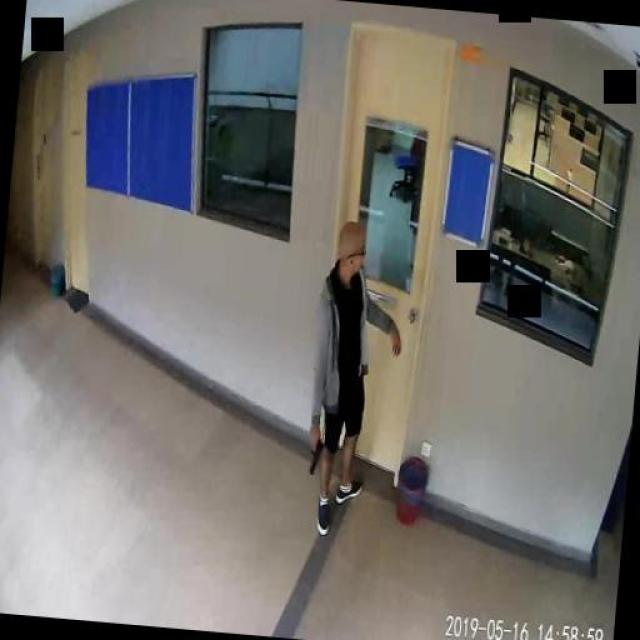gun: (302, 435, 322, 474)
